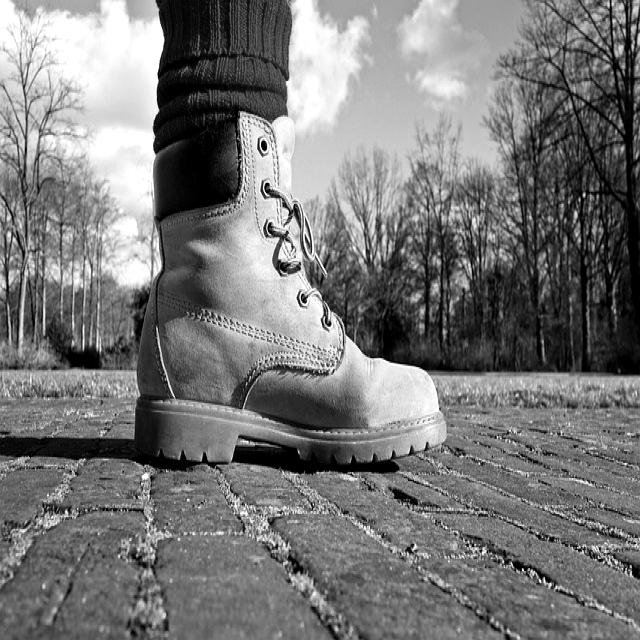No-Boots: (134, 114, 450, 484)
